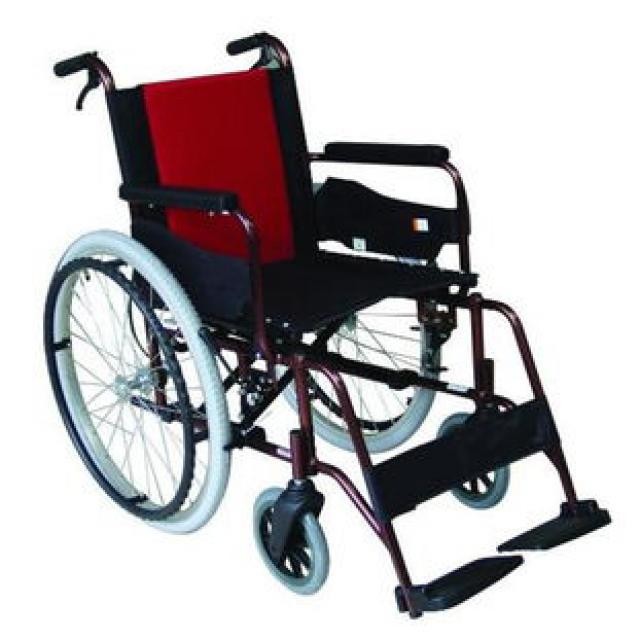wheelchair: (18, 24, 620, 614)
